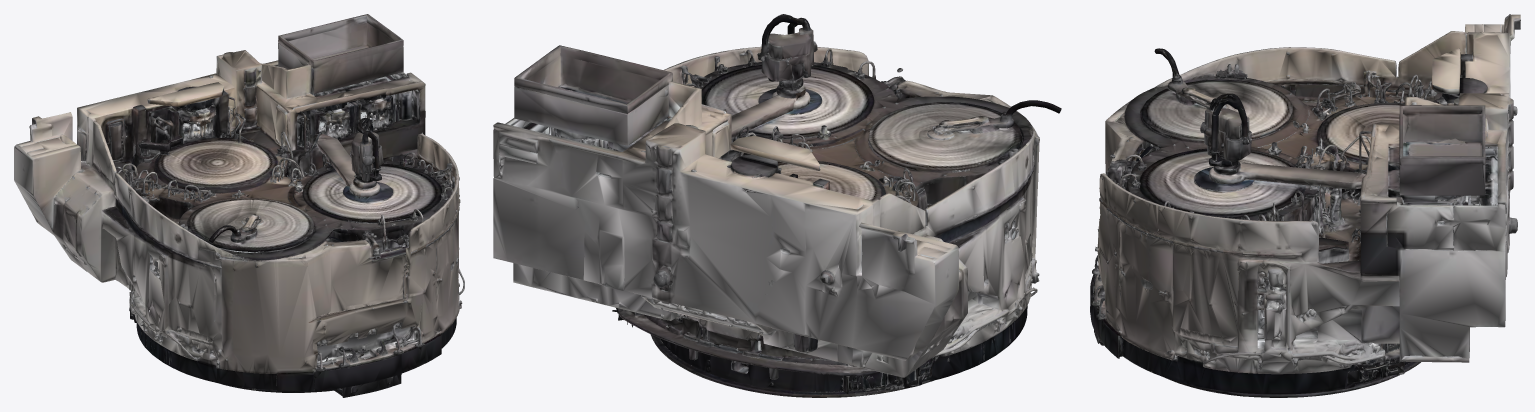
File: wafer_processor.glb
3 views of the same model, side by side, from view 1: azimuth 30°, elevation 25°; view 2: azimuth 150°, elevation 25°; view 3: azimuth 270°, elevation 25° (orthographic). The views are drawn at different scales.
Size of the model in its own units: 1.9 by 1.18 by 1.69.
1 material, 1 textured.
